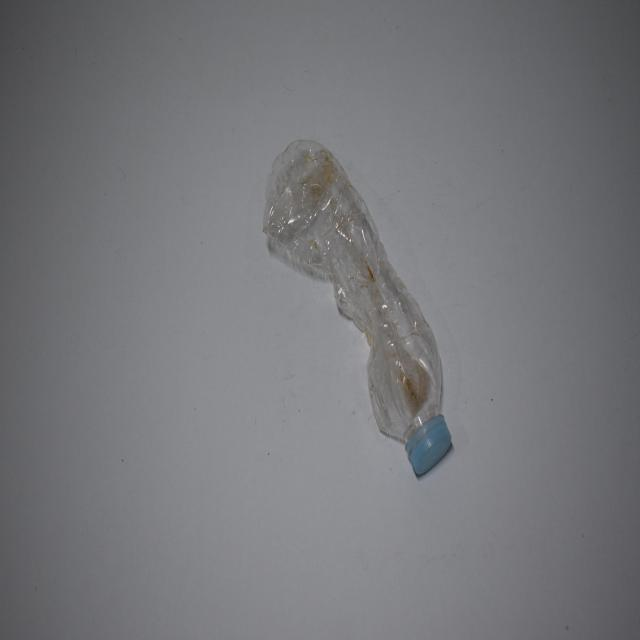bottle: (248, 118, 480, 500)
